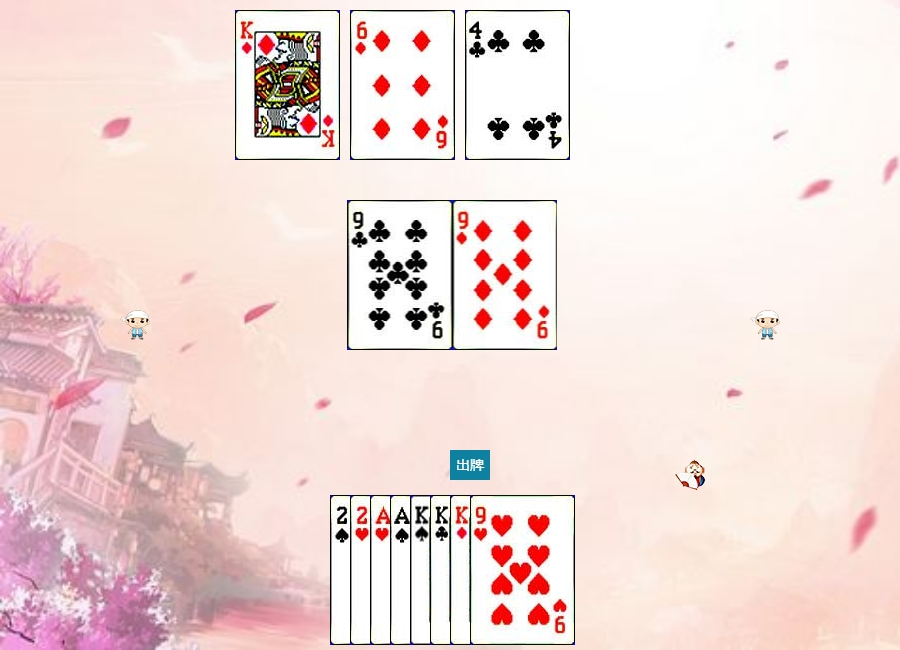13~1: (235, 10, 340, 160), (450, 495, 555, 645)
13~2: (430, 495, 535, 645)
13~4: (410, 495, 515, 645)
14~3: (370, 495, 475, 645)
14~4: (390, 495, 495, 645)
15~3: (350, 495, 455, 645)
15~4: (330, 495, 435, 645)
4~2: (465, 10, 570, 160)
6~1: (350, 10, 455, 160)
9~1: (453, 200, 558, 350)
9~2: (348, 200, 453, 350)
9~3: (470, 495, 575, 645)
